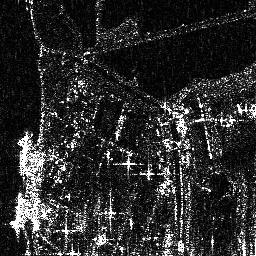ship: (17, 130, 32, 177), (10, 193, 27, 231)
